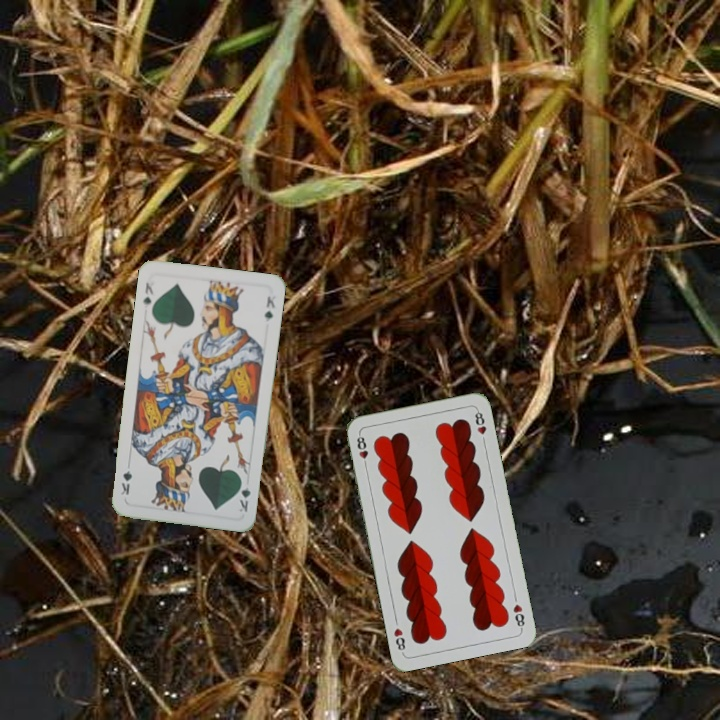GK: (235, 475, 253, 514), (139, 279, 156, 307)
H8: (353, 430, 371, 471), (509, 600, 527, 632)
